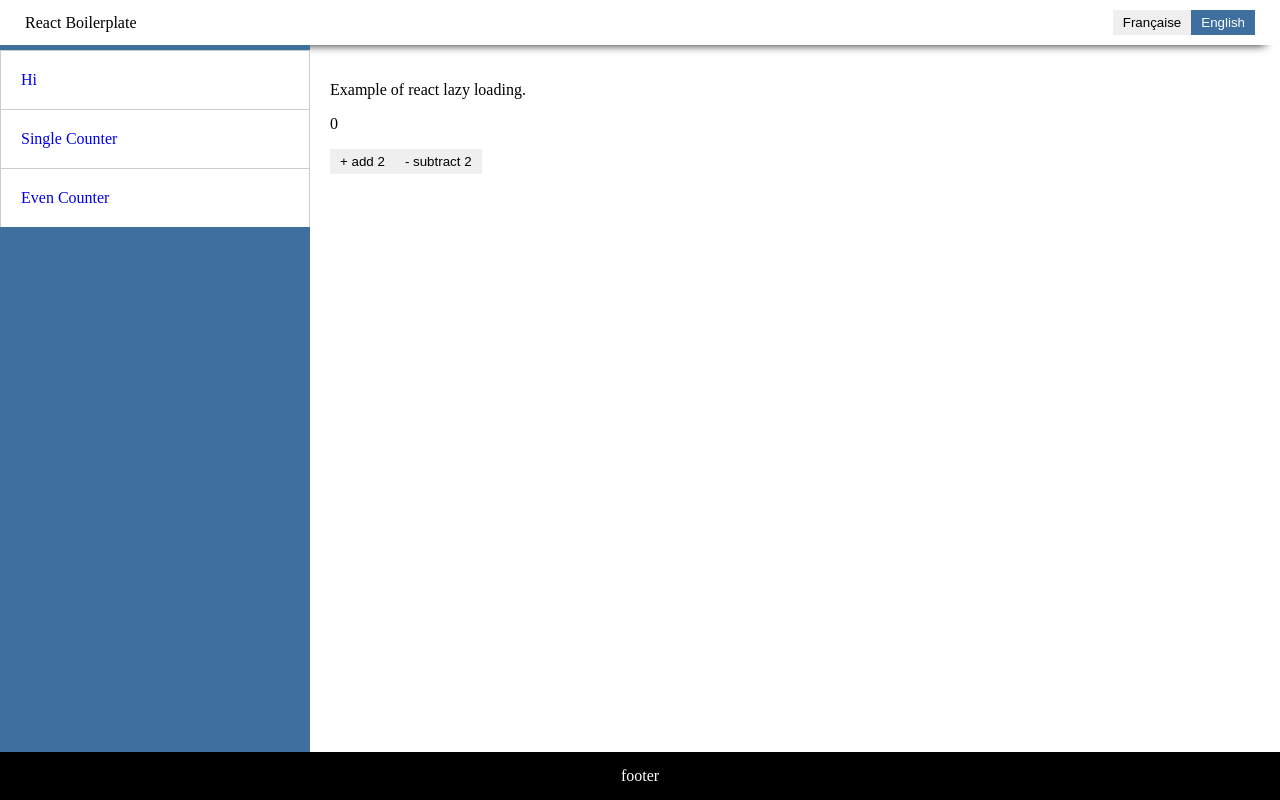
Test: Even Counter › Checking increment and decrement
The image size is (1280, 800).
Expected: the text "0" is shown, [330,115,338,132]
What coordinates should you click on to do the following:
click the button "+ add 2"
I would click on:
 (363, 162)
Its box is [330,149,395,174].
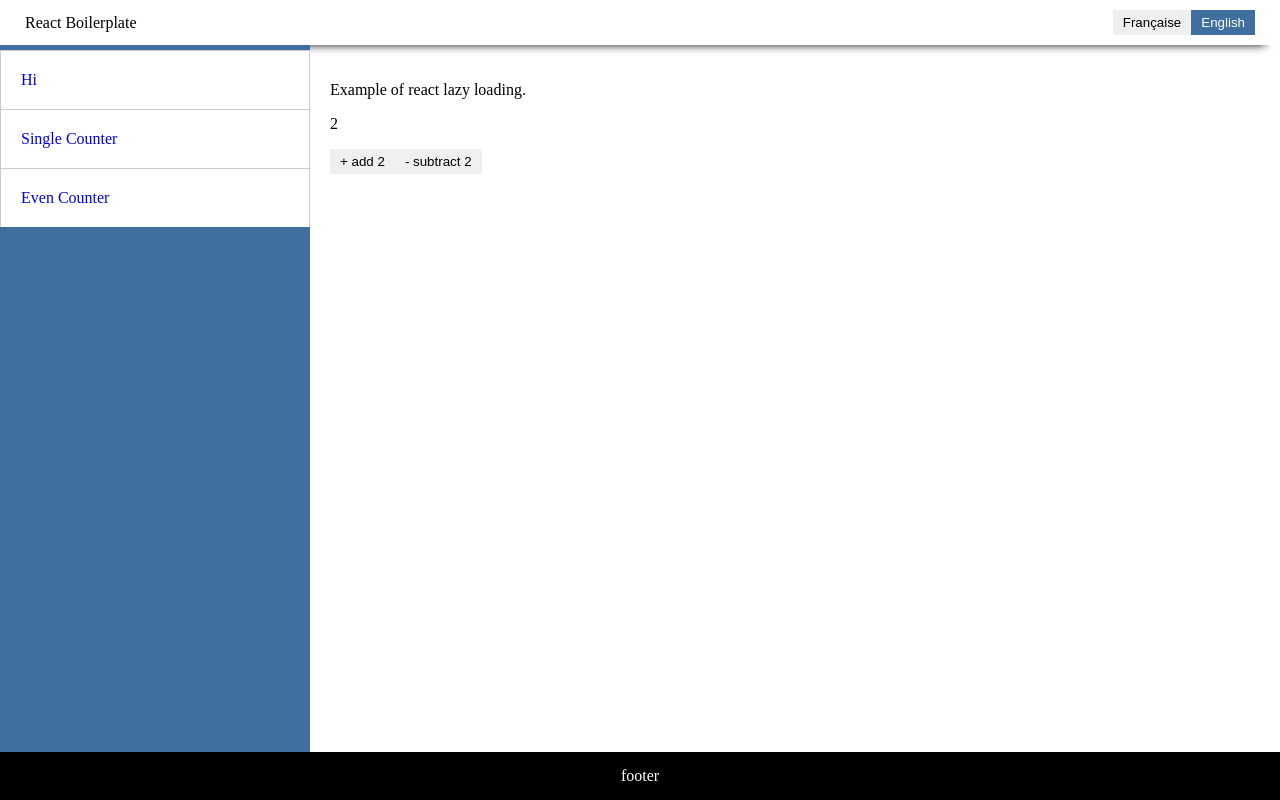
Now the text "2" is shown, box [330,115,338,132]
What coordinates should you click on to do the following:
click the button "- subtract 2"
I would click on:
 (439, 162)
Its box is [395,149,482,174].
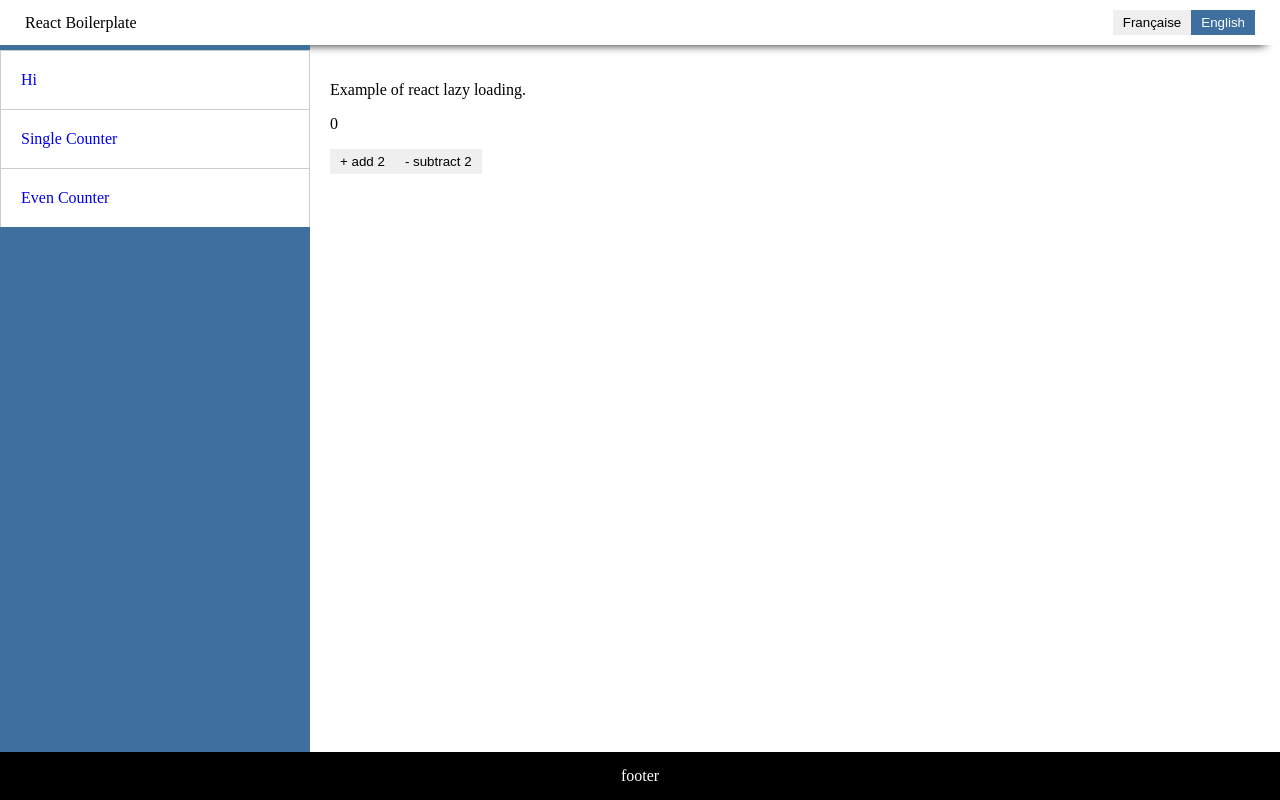
Now the text "0" is shown, box [330,115,338,132]
